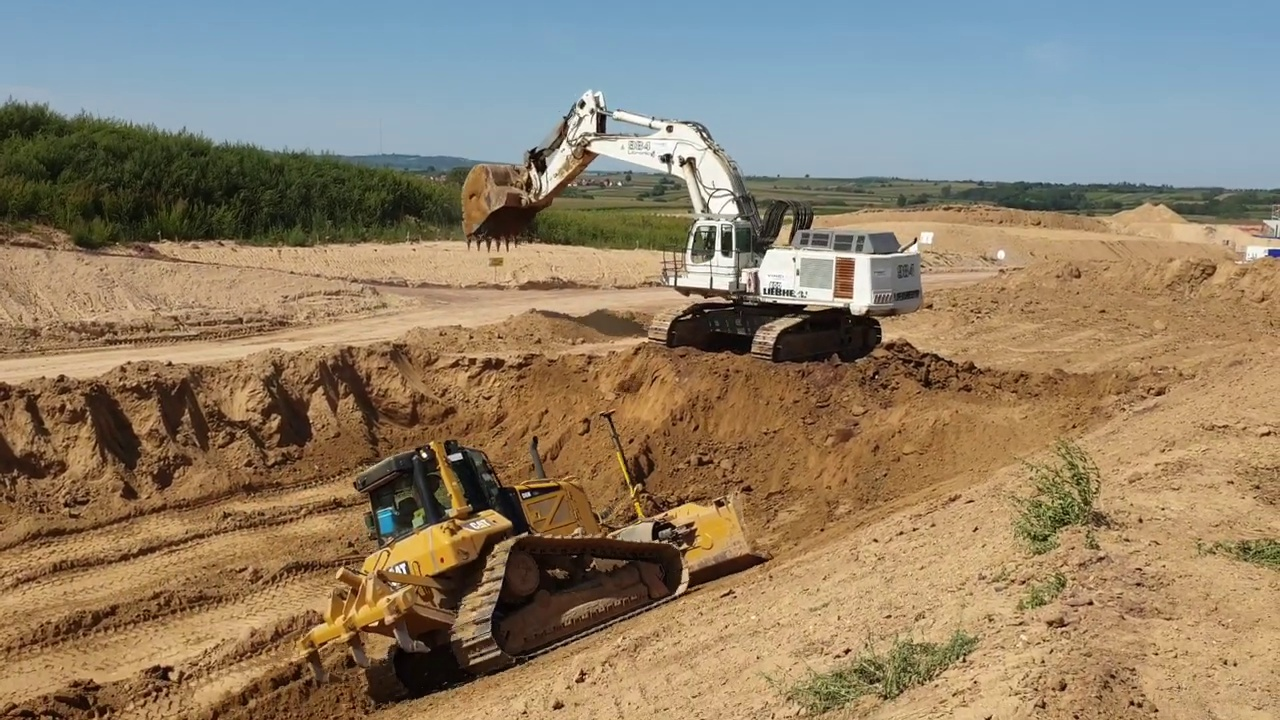bulldozer: (302, 405, 778, 710)
excavator: (456, 85, 932, 369)
